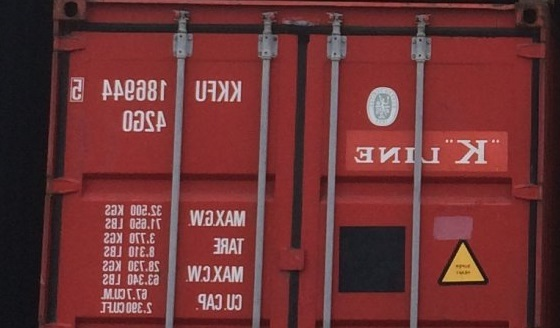container_door: (44, 4, 538, 328)
